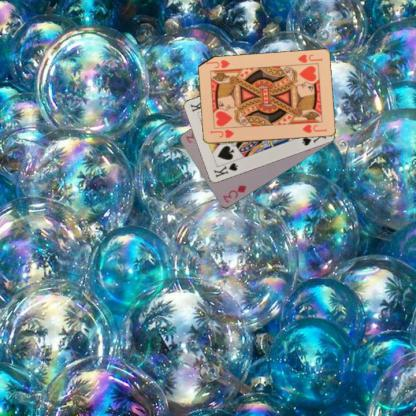3d: (220, 182, 247, 205)
Jh: (295, 52, 323, 64), (208, 127, 235, 139)
Ks: (211, 161, 239, 179)
